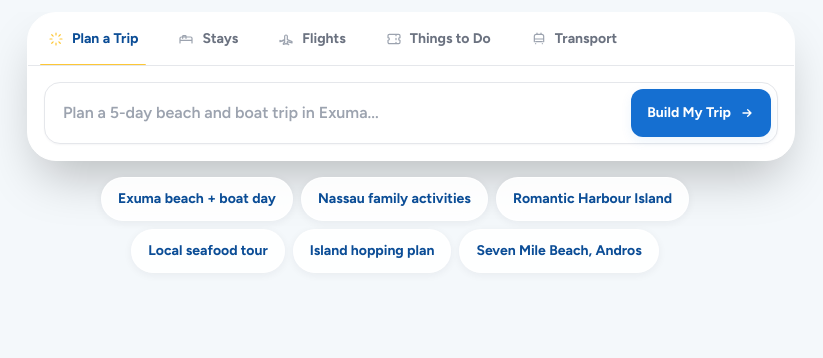
Scenario: MarketingHeroSearch › lets homepage visitors search their departure airport without knowing the code
Click the tab "Flights": click(312, 39) [258,13,366,65]
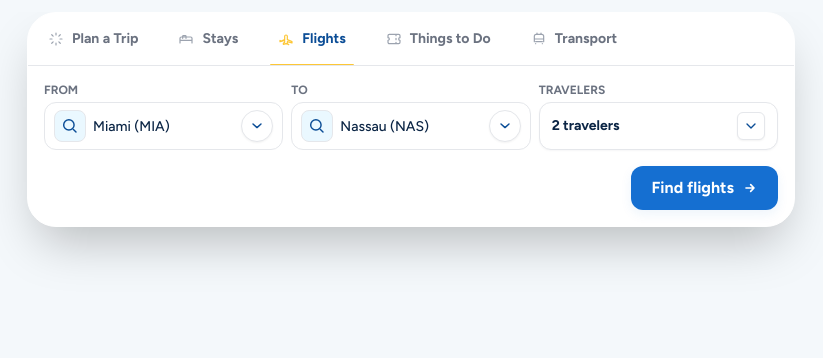
Replace the text in the dropdown labelled "From" with "west palm": (164, 126) [44,102,283,150]
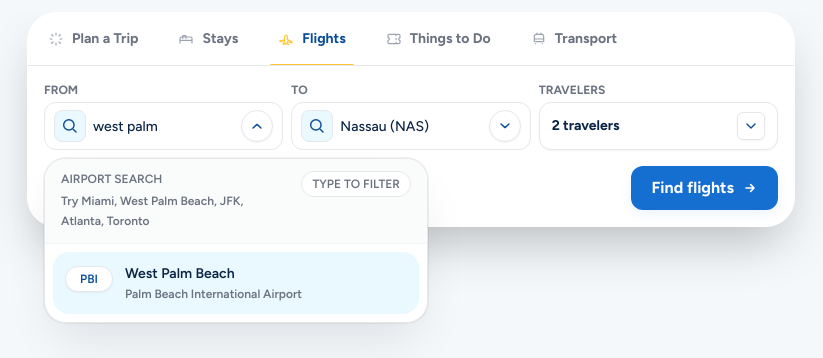
Now the text "Palm Beach International Airport" is shown, box [125,287,302,301]
Press the mouse on the option "PBI West Palm Beach Palm Beach International Airport": (236, 283) [53,252,419,314]
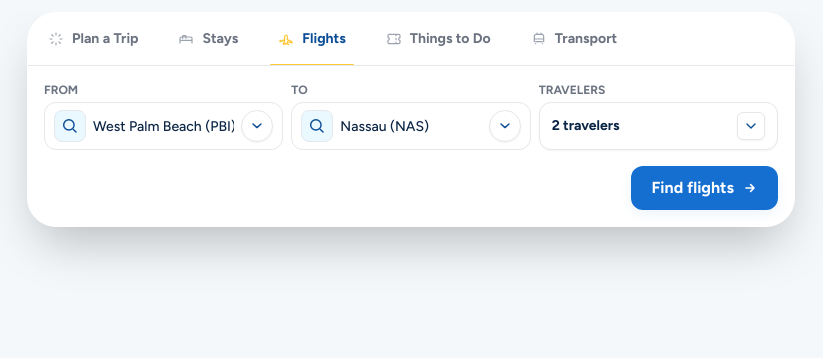
Now the label named "m-flight-from" holds "West Palm Beach", box [44,82,283,150]
Now the list is gone
Now the dropdown labelled "From" holds "West Palm Beach (PBI)", box [44,102,283,150]
